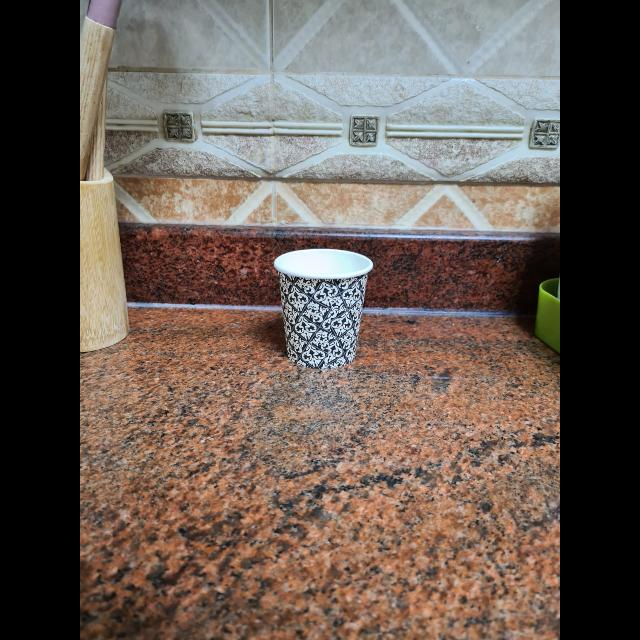trash: (268, 246, 378, 376)
